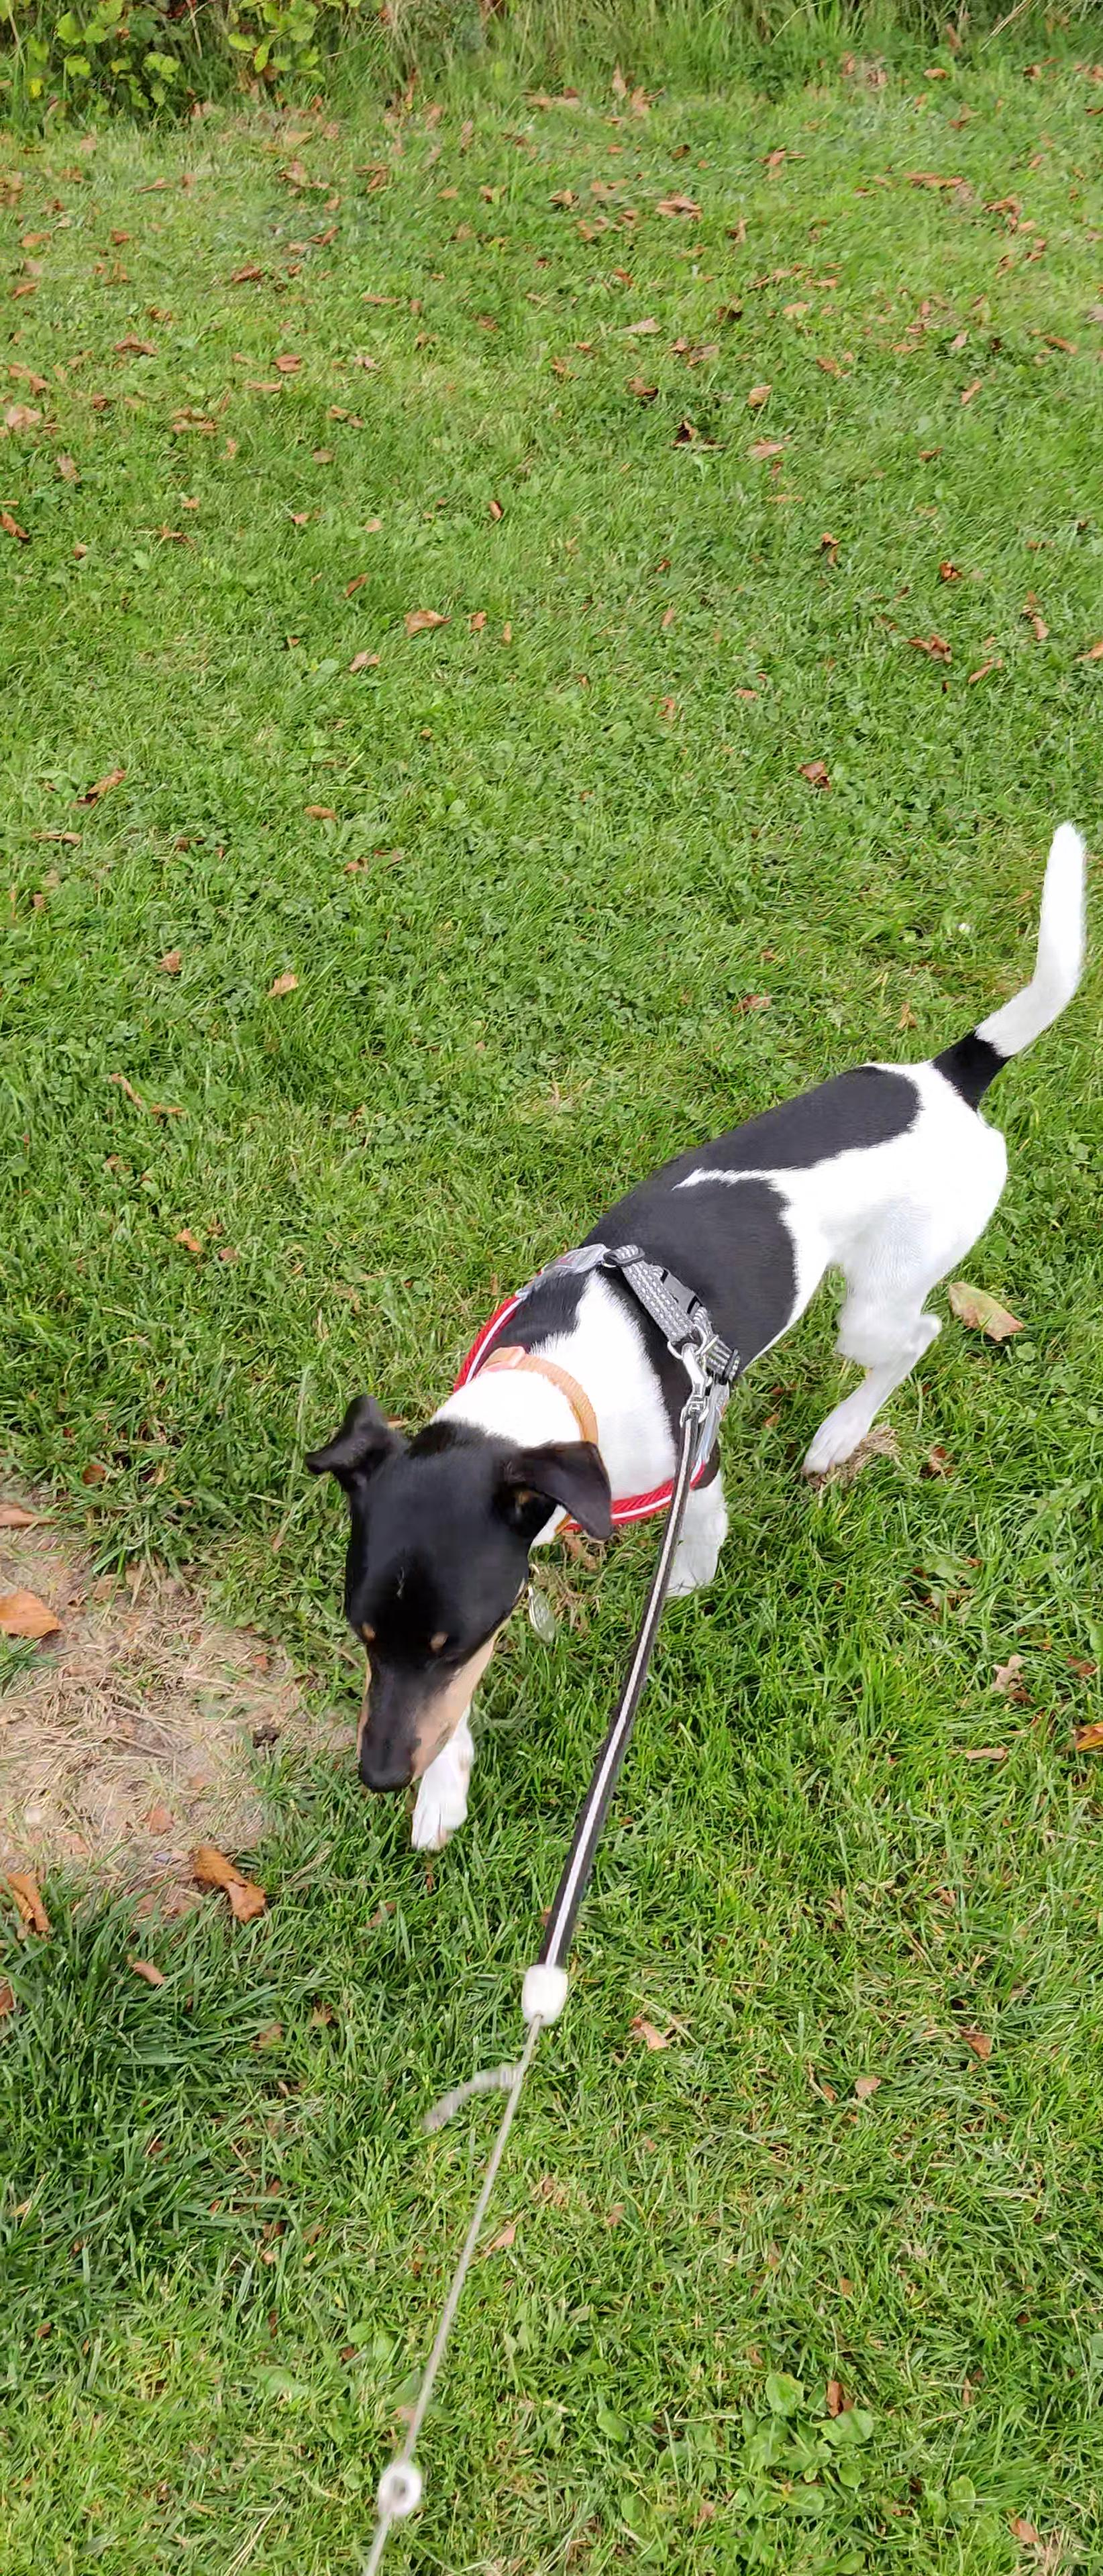Dog: (291, 805, 1095, 1897)
